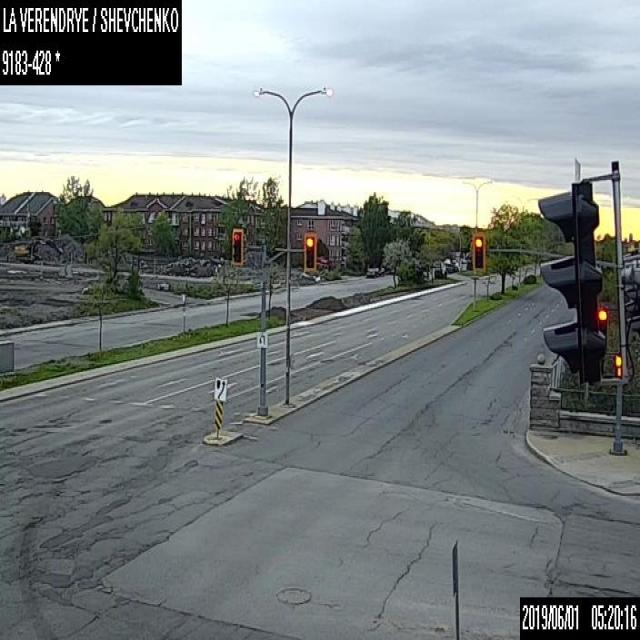vehicle: (434, 265, 446, 278), (366, 266, 378, 276), (376, 266, 384, 276)
